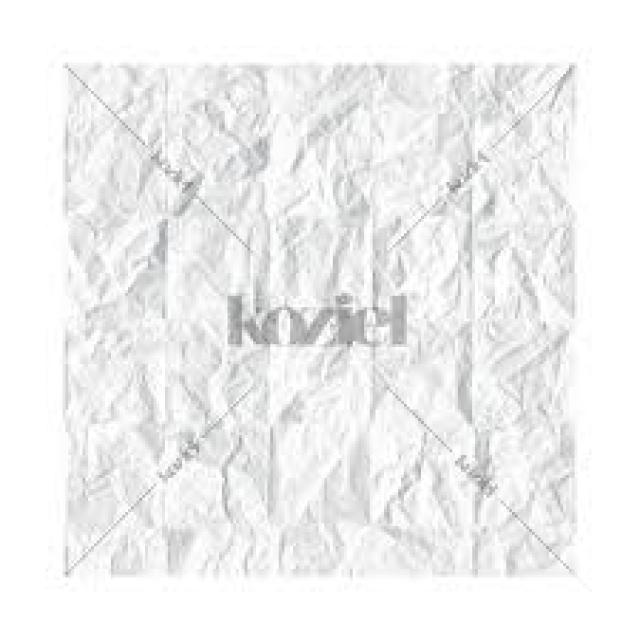paper: (60, 60, 575, 575)
